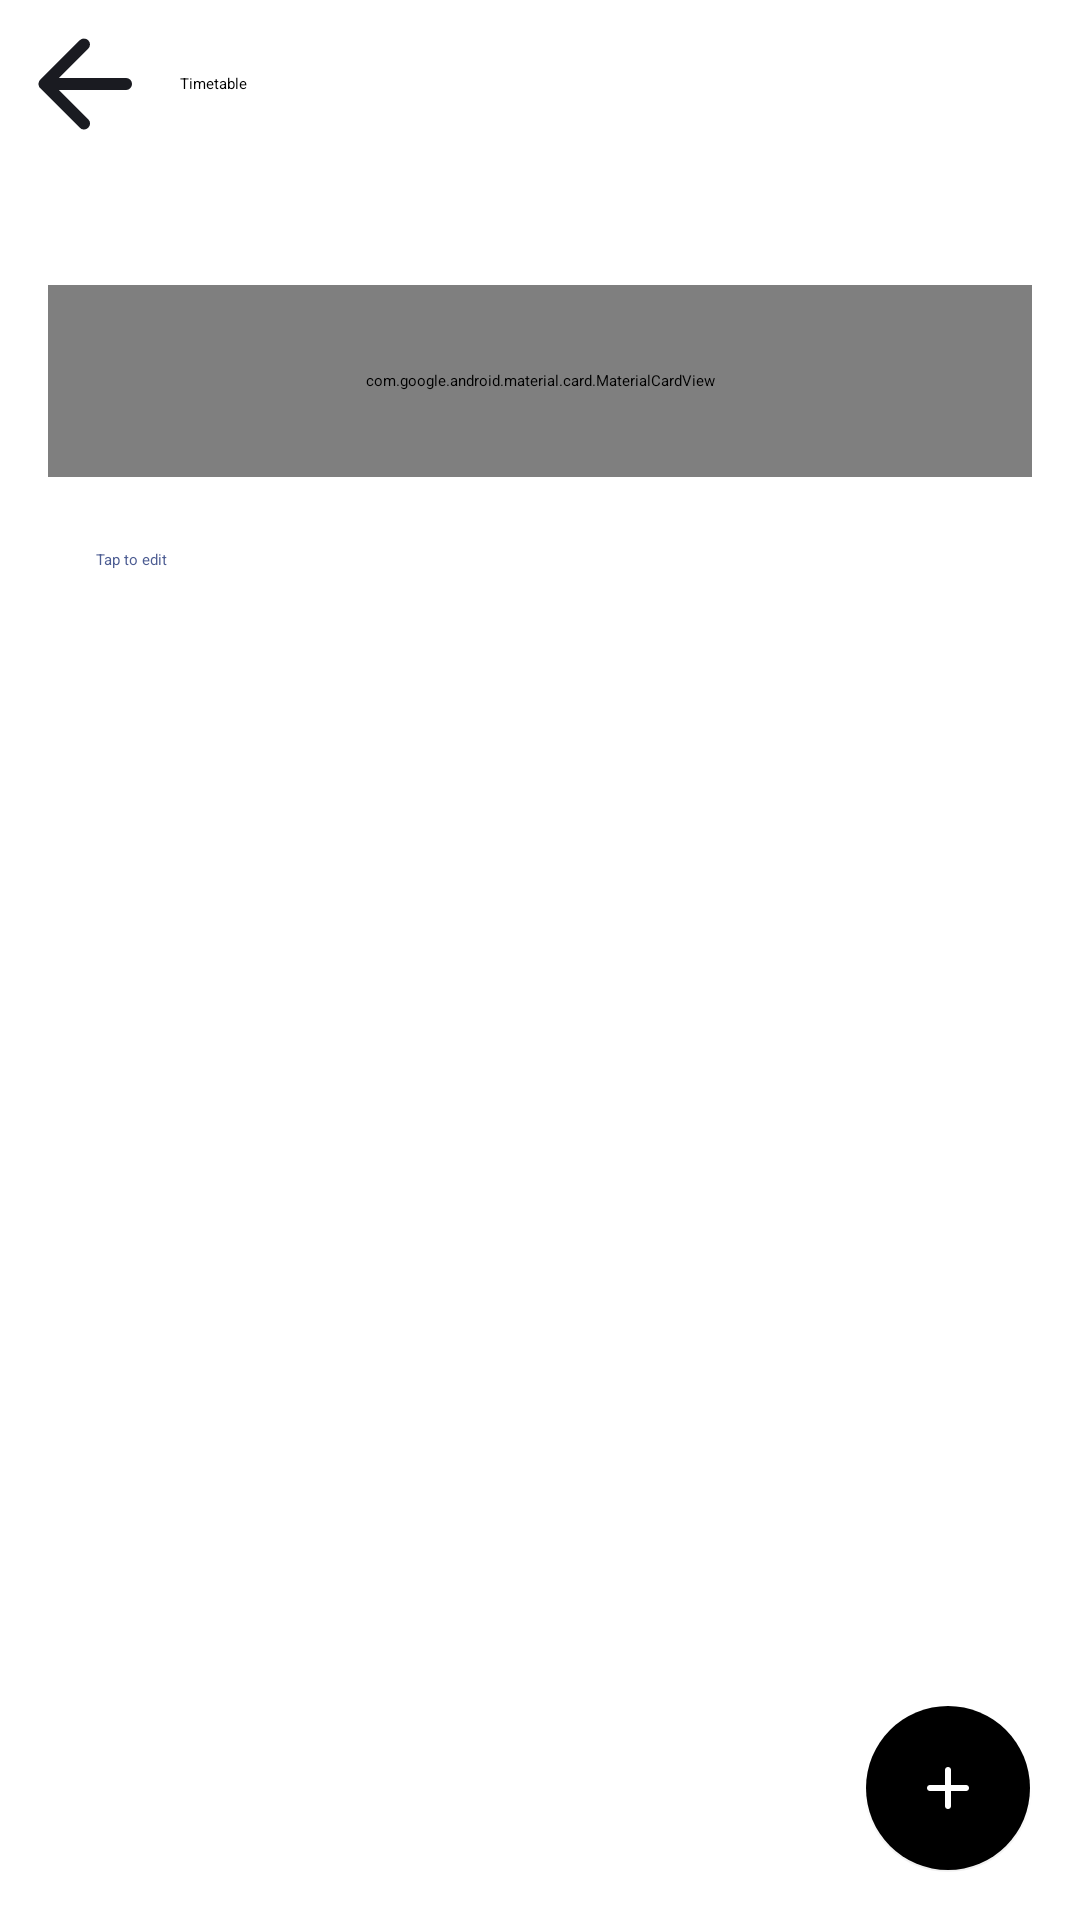

Icons on this 1080 × 1920 Android screen, each with its box as (x1, y1, x2, y2):
arrow back: (38, 38, 132, 130)
New schedule: (866, 1706, 1030, 1870)
